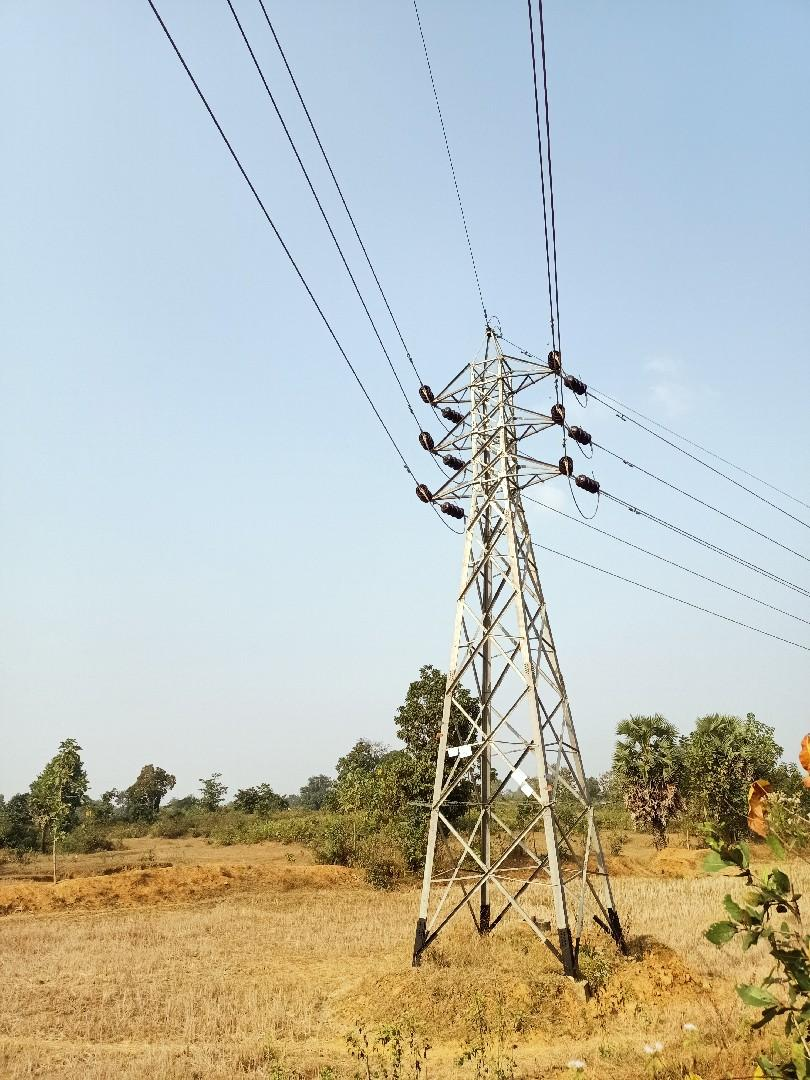GSM Antenna: (403, 325, 632, 952)
